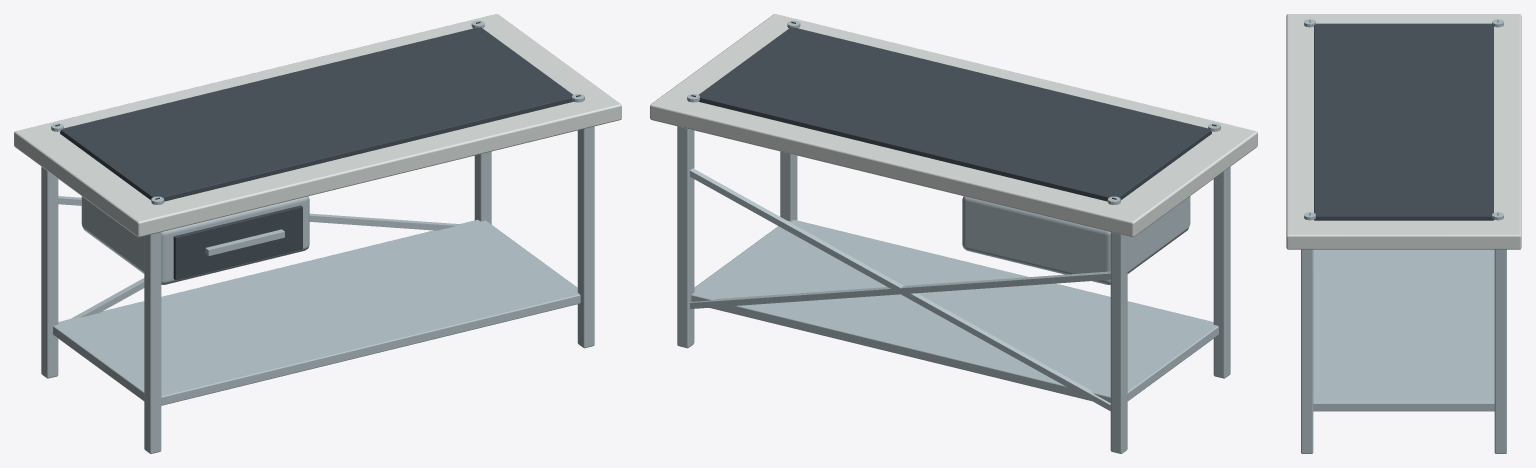
Rendered from data-centre-infiltration-kit-data-centre-infiltration--546ae25b__29250.glb.
The picture shows the model from 3 angles, left to right: view 1: azimuth 30°, elevation 25°; view 2: azimuth 150°, elevation 25°; view 3: azimuth 270°, elevation 25°; orthographic projection. The views are drawn at different scales.
Visible parts, largest first — view 1: data-centre-infiltration-kit-workbench; view 2: data-centre-infiltration-kit-workbench; view 3: data-centre-infiltration-kit-workbench.
Part boxes in pixels (bbox=[...]): data-centre-infiltration-kit-workbench: bbox=[14, 14, 621, 453]; data-centre-infiltration-kit-workbench: bbox=[650, 14, 1257, 453]; data-centre-infiltration-kit-workbench: bbox=[1286, 14, 1521, 453].
Size of the model in its own units: 1.9 by 0.938 by 0.8499.
